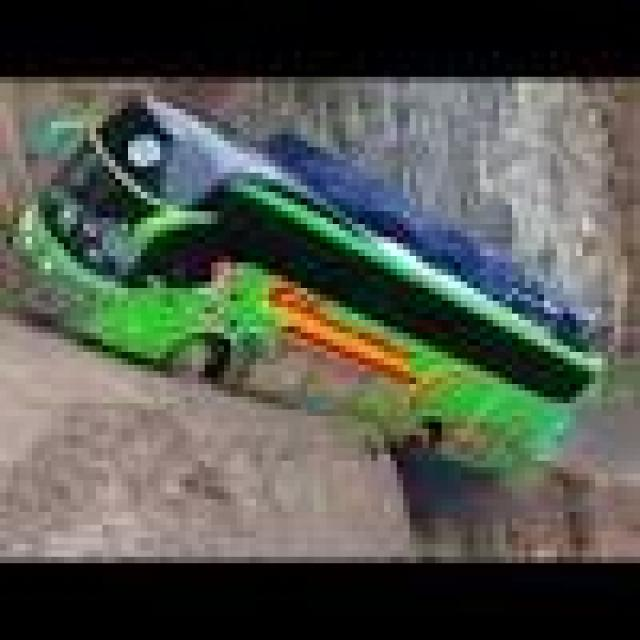BUS: (19, 109, 576, 461)
